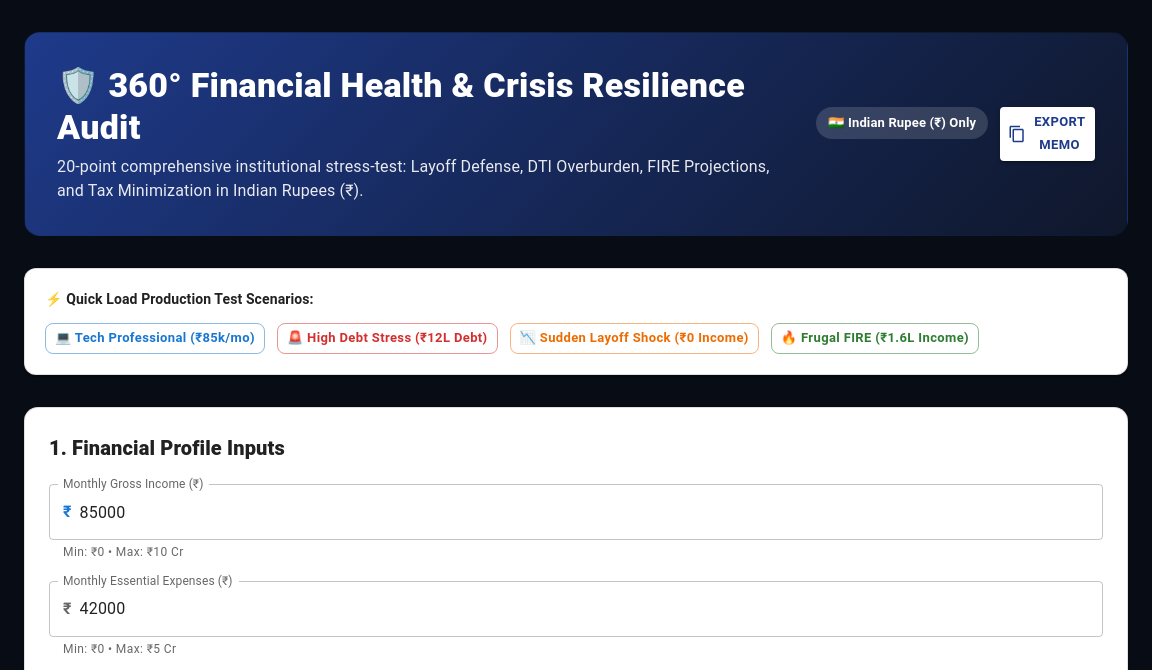
Test case: Assessment Page - 20 Advanced Features & Critical Scenarios › Critical Scenario: Sudden Layoff Shock preset test
// Click the layoff shock preset button
Click the button "📉 Sudden Layoff Shock (₹0 Income)" at point(634, 339), box left=510, top=323, right=759, bottom=354
(page scrolled)
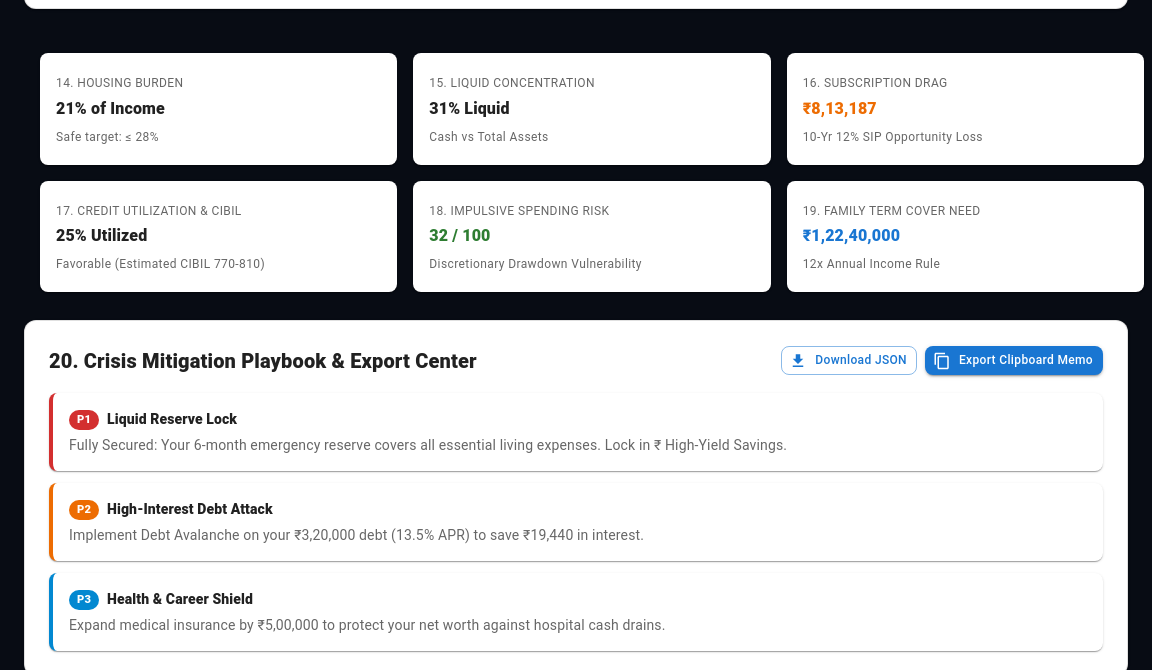
Result: the heading "20. Crisis Mitigation Playbook & Export Center" is shown at left=49, top=345, right=477, bottom=377
